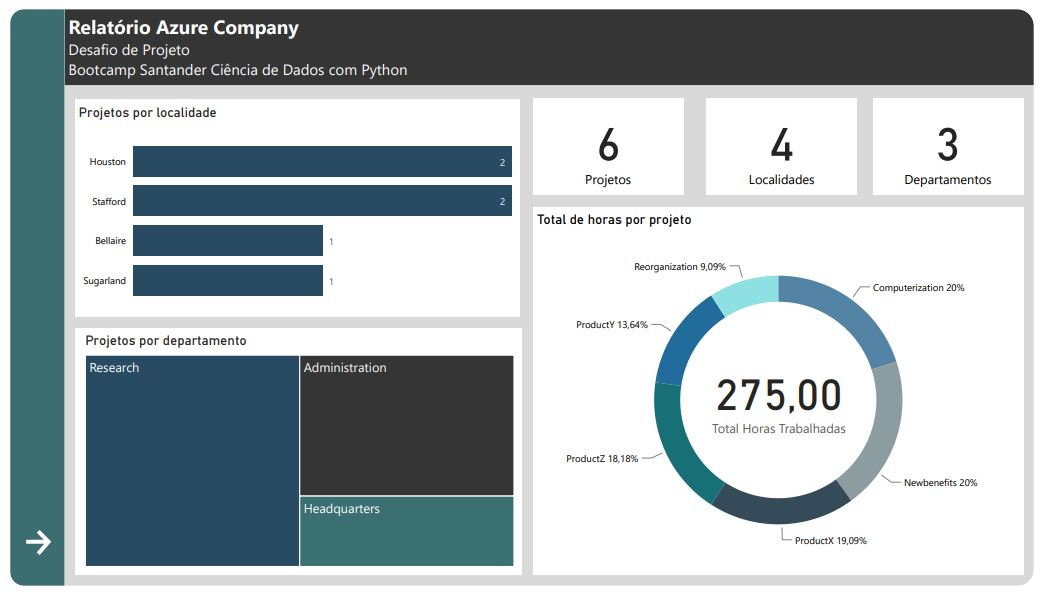

The dashboard page shown, as its layout file describes it:
{"tool":"powerbi","page":{"name":"Projetos","canvas":[1280,720],"ordinal":0},"visuals":[{"type":"group","id":"g1","title":"Layout","box":[0,0,1280,720.4],"z":0},{"type":"shape","title":"Fundo","box":[0,0,1280,720.4],"z":0,"group":"g1"},{"type":"shape","title":"Barra lateral","box":[0,0,68.1,720.4],"z":1000,"group":"g1"},{"type":"shape","box":[654.2,110.6,188,121.7],"z":1000},{"type":"shape","title":"Cabeçalho","box":[68.1,0,1211.9,94.5],"z":2000,"group":"g1"},{"type":"shape","box":[80.6,398.2,556.2,308.1],"z":2000},{"type":"textbox","title":"Texto cabeçalho","box":[68.1,0,658,94.5],"z":3000,"group":"g1"},{"type":"shape","box":[80.6,112.2,556.2,271.8],"z":3000},{"type":"shape","box":[654.2,246.5,613.1,459.9],"z":4000},{"type":"donutChart","title":"Total de horas por projeto","fields":{"Category":["azure_company project.Project_name"],"Y":["Sum(azure_company works_on.Hours)"]},"box":[654.2,246.5,613.1,458.3],"z":5000},{"type":"card","fields":{"Values":["azure_company works_on.Total Horas Trabalhadas"]},"box":[870.7,431.4,181.7,107.5],"z":6000},{"type":"barChart","title":"Projetos por localidade","fields":{"Y":["CountNonNull(azure_company project.Project_number)"],"Category":["azure_company project.Project_location"]},"box":[80.6,113.8,556.2,270.2],"z":7000},{"type":"treemap","title":"Projetos por departamento","fields":{"Values":["CountNonNull(azure_company project.Project_name)"],"Details":["azure_company department.Dept_name"]},"box":[83.8,398.2,556.2,308.1],"z":8000},{"type":"actionButton","box":[14.2,646.3,39.5,39.5],"z":9000},{"type":"shape","box":[1079.3,110.6,188,121.7],"z":10000},{"type":"shape","box":[870.7,110.6,188,121.7],"z":11000},{"type":"card","fields":{"Values":["Count(azure_company project.Project_name)"]},"box":[654.2,110.6,188,121.7],"z":12000},{"type":"card","fields":{"Values":["Count(azure_company project.Project_location)"]},"box":[870.7,110.6,188,121.7],"z":13000},{"type":"card","fields":{"Values":["CountNonNull(azure_company department.Dept_name)"]},"box":[1079.3,110.6,188,121.7],"z":14000}]}

Visuals, with their boxes in screenshot pixels (x1, y1, x2, y2), scaled from the page's 1280x720 canvas onto the 1043x595 screenshot:
"Layout" group: {"left": 0, "top": 0, "right": 1042, "bottom": 594}
"Fundo" shape: {"left": 0, "top": 0, "right": 1042, "bottom": 594}
"Barra lateral" shape: {"left": 0, "top": 0, "right": 55, "bottom": 594}
shape: {"left": 533, "top": 91, "right": 686, "bottom": 192}
"Cabeçalho" shape: {"left": 55, "top": 0, "right": 1042, "bottom": 78}
shape: {"left": 66, "top": 329, "right": 519, "bottom": 584}
"Texto cabeçalho" textbox: {"left": 55, "top": 0, "right": 592, "bottom": 78}
shape: {"left": 66, "top": 93, "right": 519, "bottom": 317}
shape: {"left": 533, "top": 204, "right": 1033, "bottom": 584}
"Total de horas por projeto" donutChart: {"left": 533, "top": 204, "right": 1033, "bottom": 582}
card - azure_company works_on.Total Horas Trabalhadas: {"left": 709, "top": 357, "right": 858, "bottom": 445}
"Projetos por localidade" barChart: {"left": 66, "top": 94, "right": 519, "bottom": 317}
"Projetos por departamento" treemap: {"left": 68, "top": 329, "right": 522, "bottom": 584}
actionButton: {"left": 12, "top": 534, "right": 44, "bottom": 567}
shape: {"left": 879, "top": 91, "right": 1033, "bottom": 192}
shape: {"left": 709, "top": 91, "right": 863, "bottom": 192}
card - Count(azure_company project.Project_name): {"left": 533, "top": 91, "right": 686, "bottom": 192}
card - Count(azure_company project.Project_location): {"left": 709, "top": 91, "right": 863, "bottom": 192}
card - CountNonNull(azure_company department.Dept_name): {"left": 879, "top": 91, "right": 1033, "bottom": 192}
